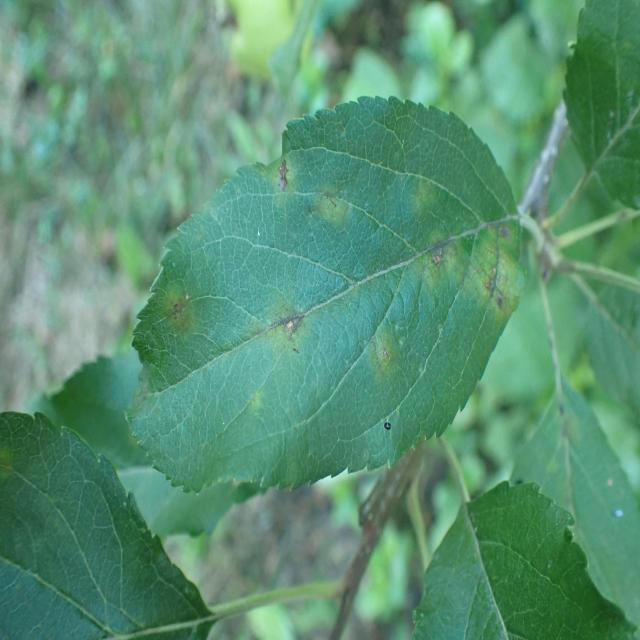scab: (137, 115, 520, 407)
